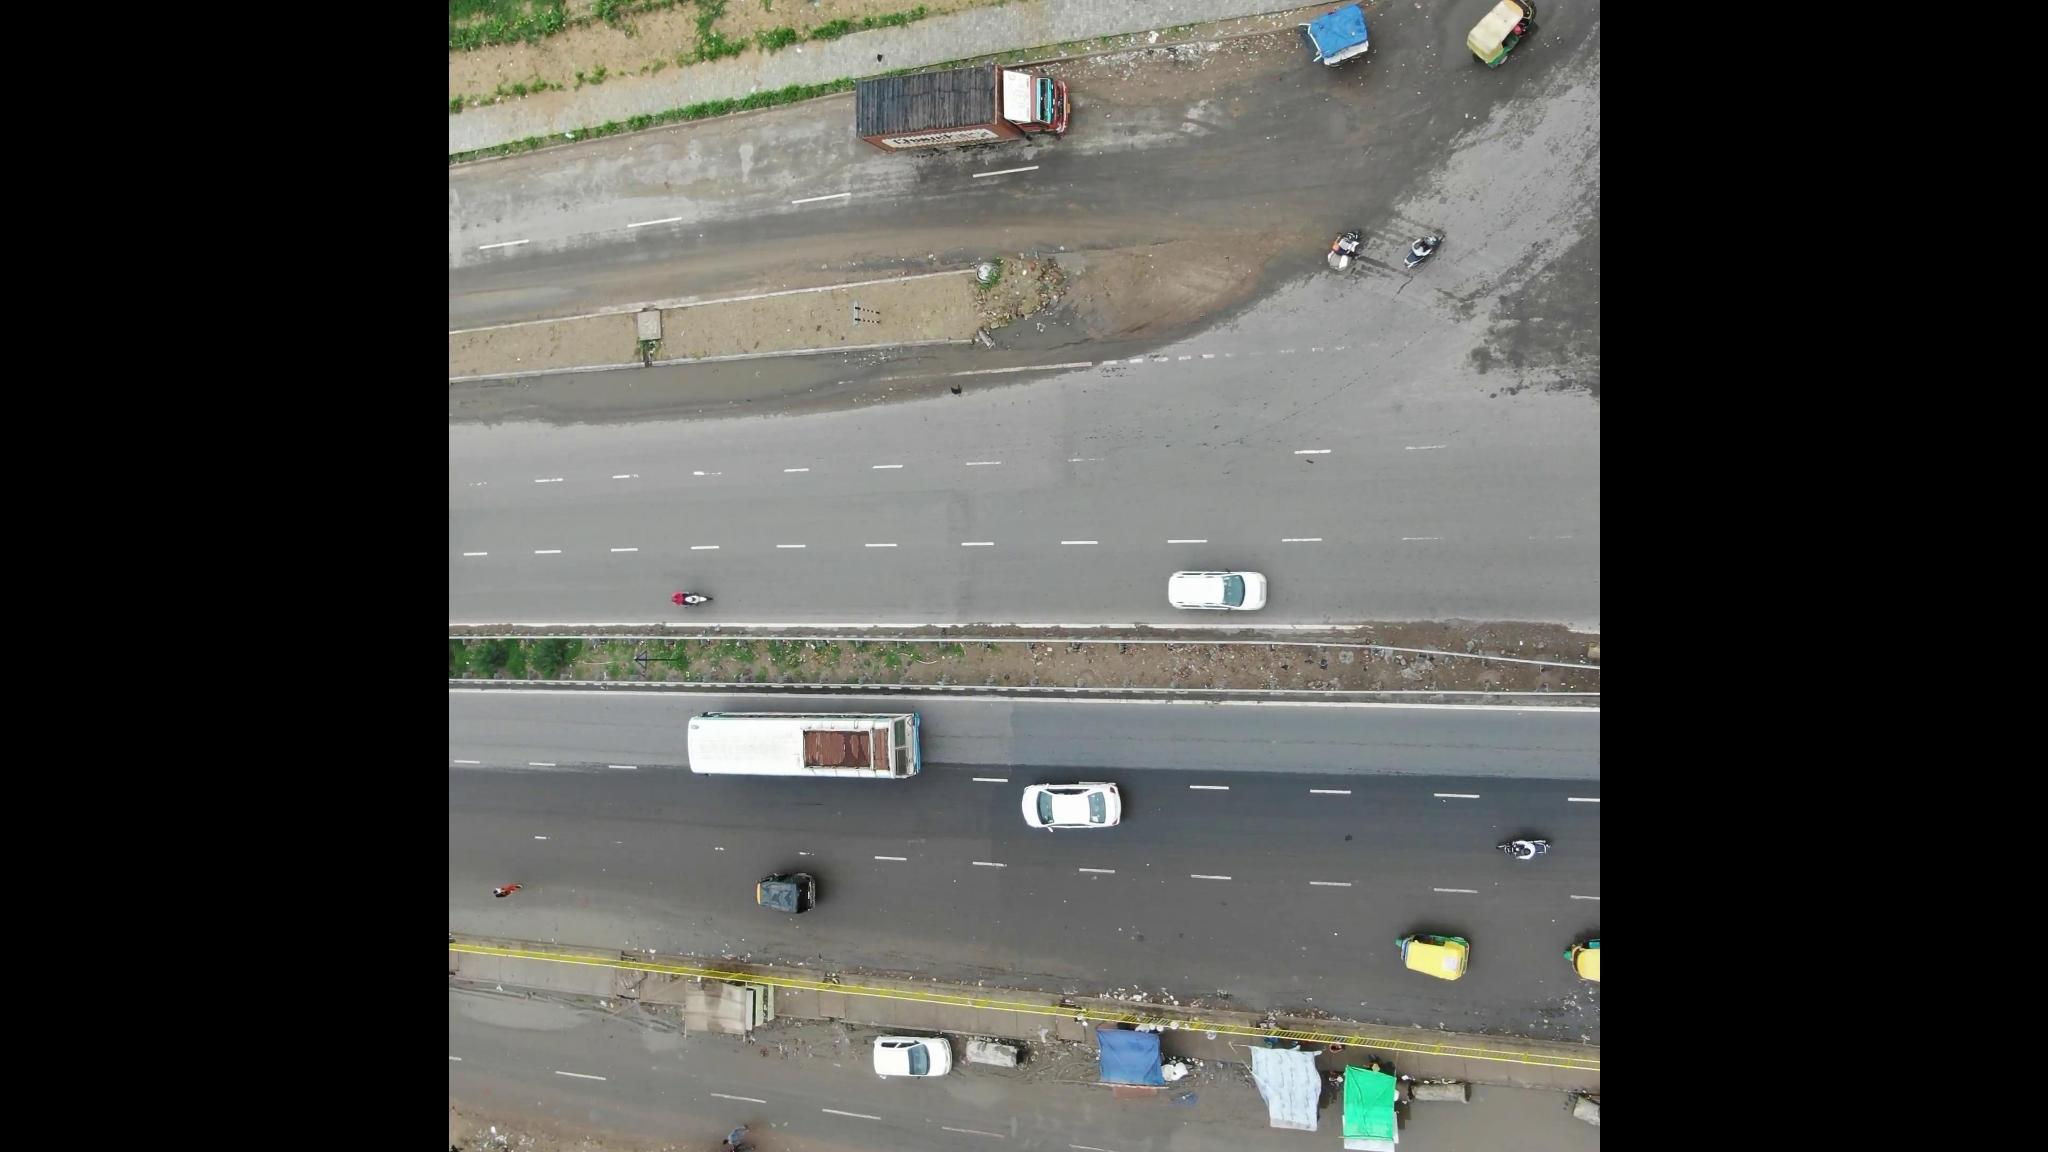Potholes: (944, 1100, 1122, 1152)
Waterlogging: (498, 345, 861, 435), (1257, 1077, 1587, 1152)
